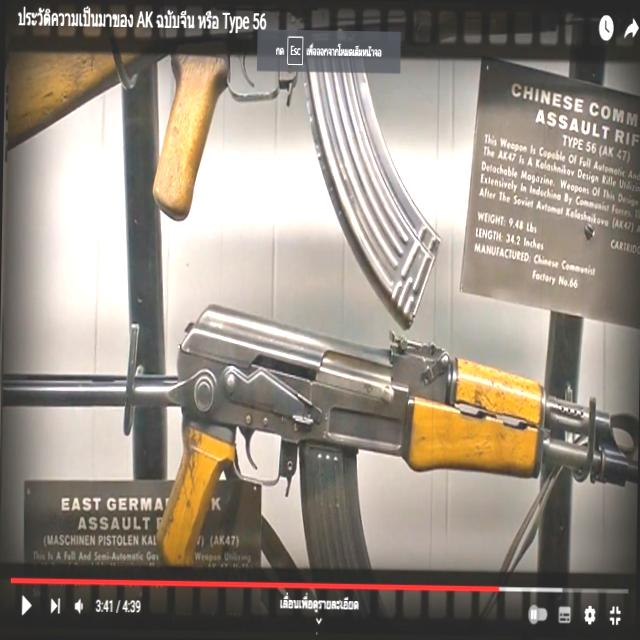ak: (115, 294, 640, 592)
